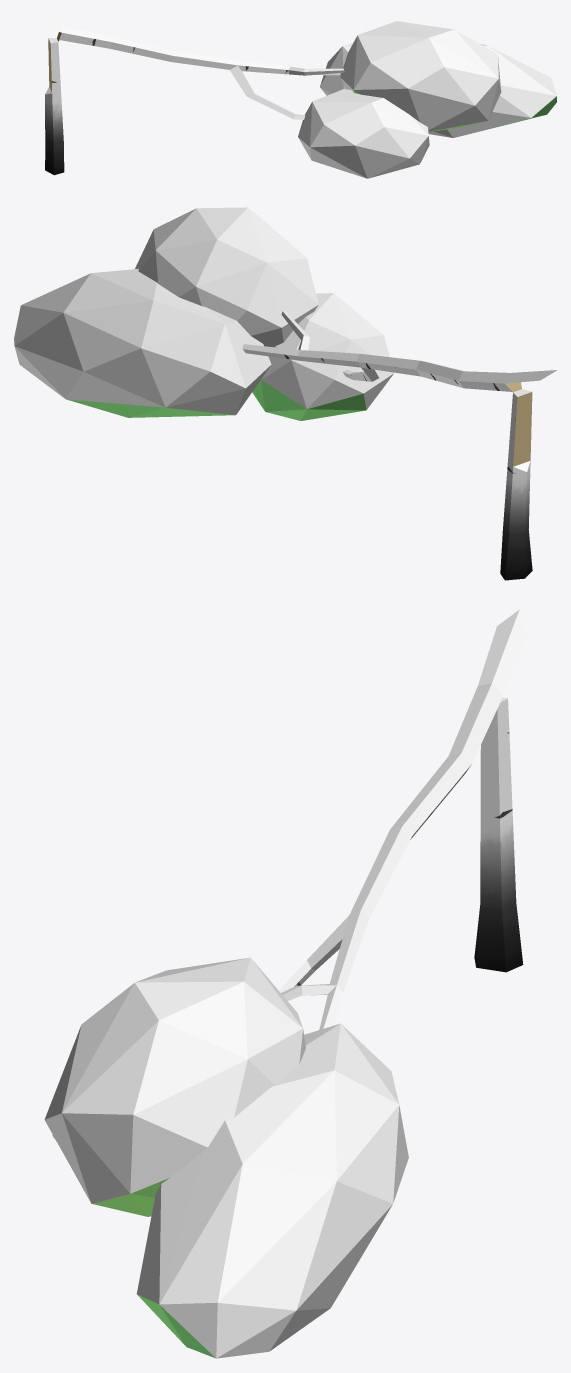
File: Birch_Tree_crk_l_Snow_BT_02.fbx
3 renders of one model, top to bottom at view 1: azimuth 30°, elevation 25°; view 2: azimuth 150°, elevation 25°; view 3: azimuth 270°, elevation 25°, orthographic. The views are drawn at different scales.
Visible parts, largest first — view 1: Birch_Tree_crk_l_Snow_BT_02; view 2: Birch_Tree_crk_l_Snow_BT_02; view 3: Birch_Tree_crk_l_Snow_BT_02.
Boxes of the visible parts, <box> form: Birch_Tree_crk_l_Snow_BT_02: <box>14,14,556,178</box>; Birch_Tree_crk_l_Snow_BT_02: <box>14,207,556,580</box>; Birch_Tree_crk_l_Snow_BT_02: <box>44,609,526,1358</box>.
Size of the model in its own units: 1700 by 556 by 760.
